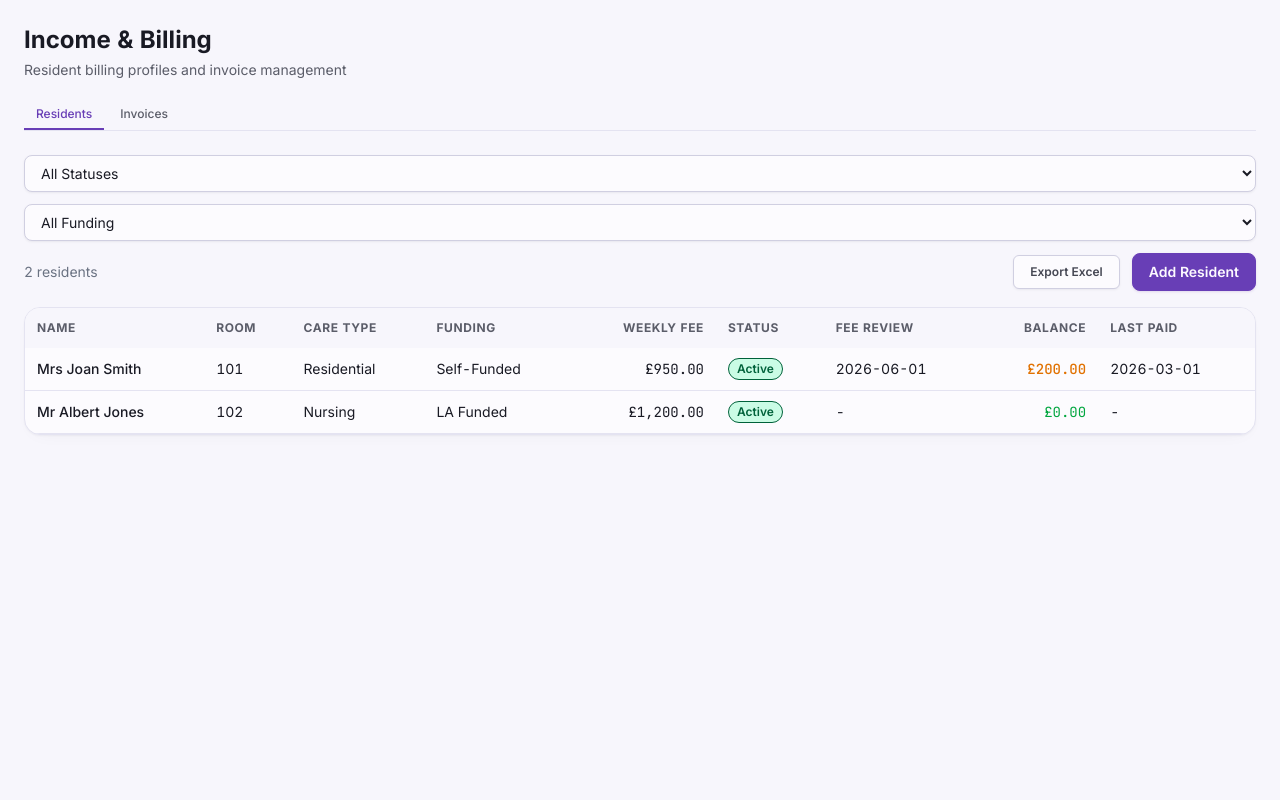
Scenario: IncomeTracker › shows resident validation inside the modal
Check: the text "Mrs Joan Smith" is shown, box [25,348,204,390]
Click the button "Add Resident" at [1194, 272], box [1132,253,1256,291]
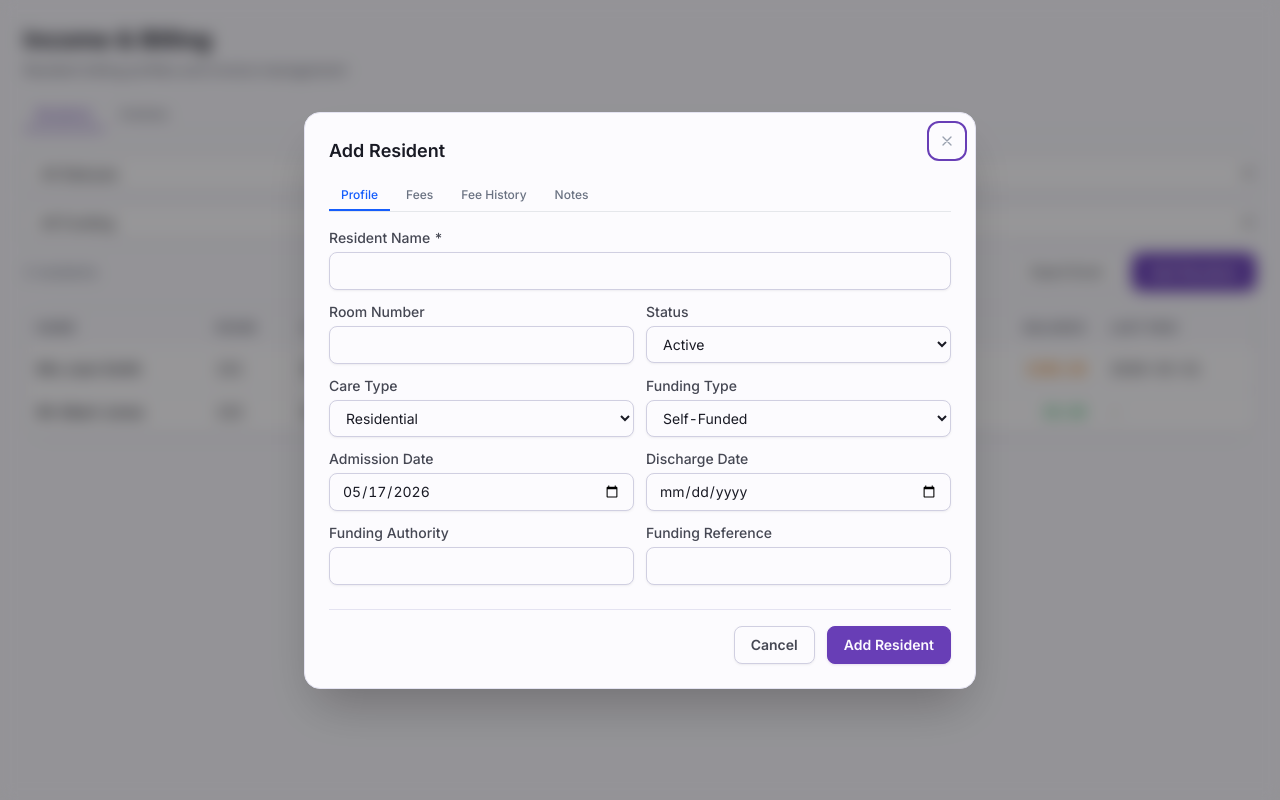
Click the button "Add Resident" at [889, 644], box [827,626,951,664]
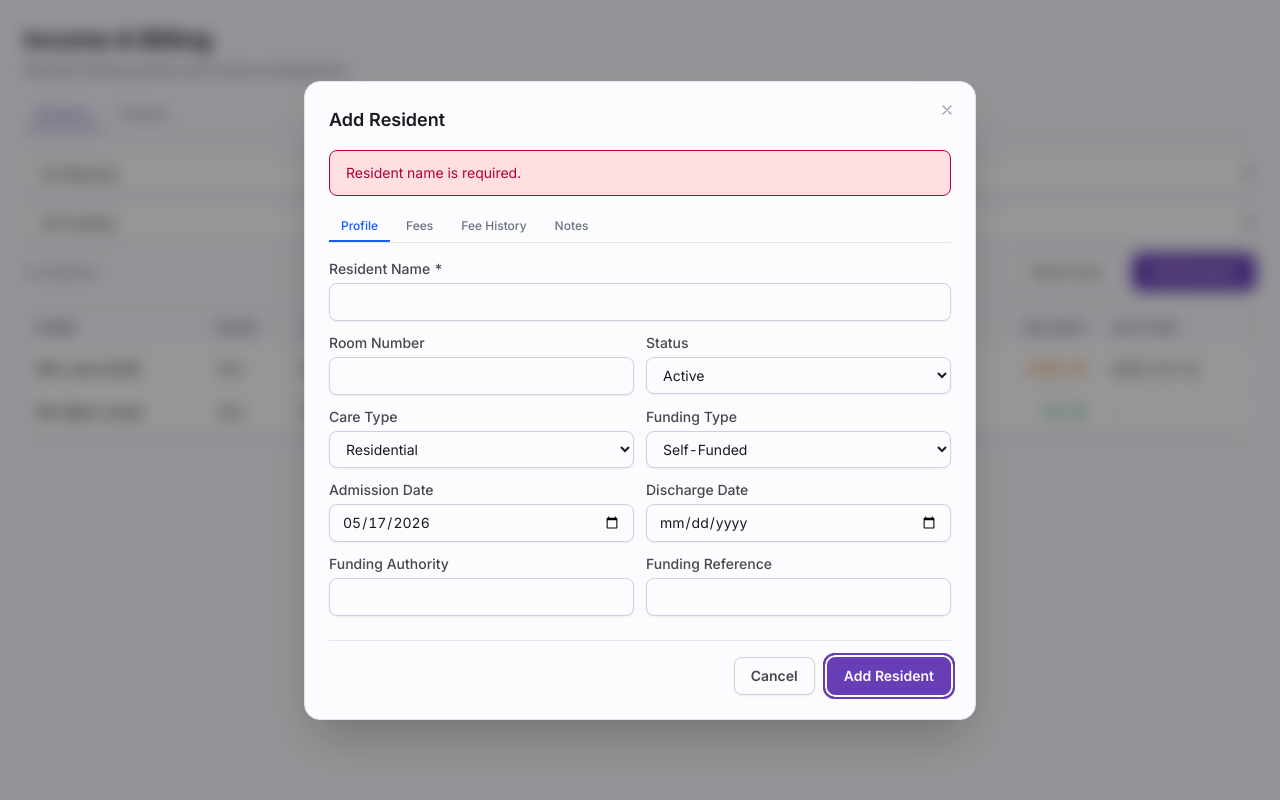
Check: the text "Resident name is required." is shown, box [346,162,521,182]
